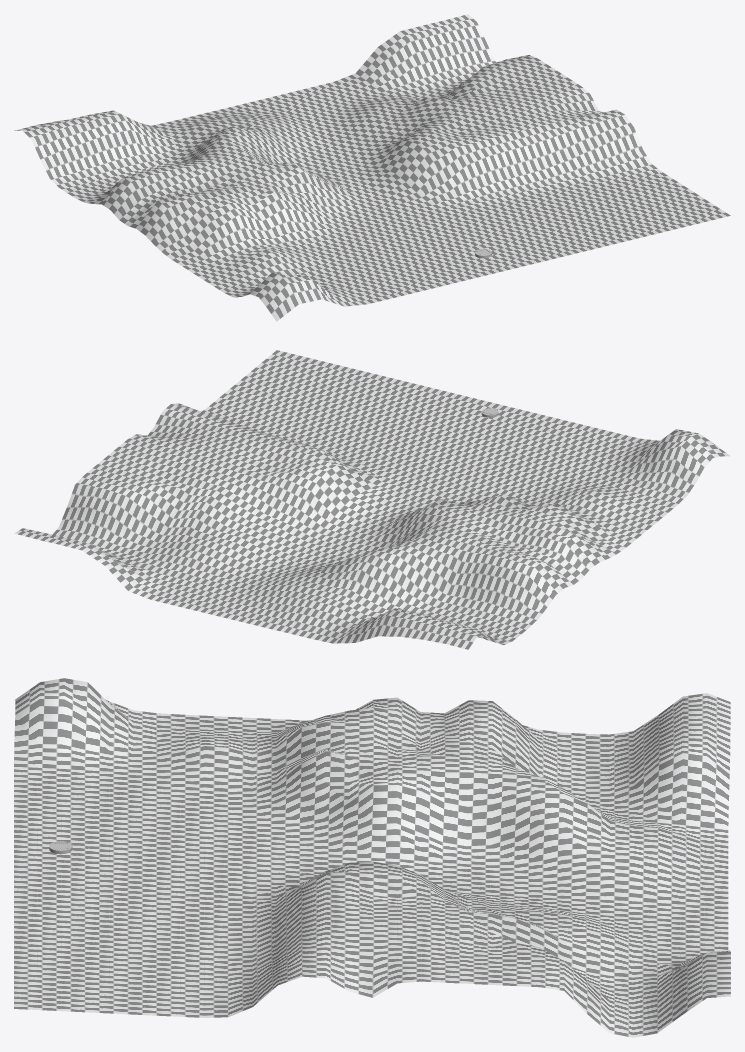
The model's file is GazerScene.FBX.
3 renders of one model, top to bottom at view 1: azimuth 30°, elevation 25°; view 2: azimuth 150°, elevation 25°; view 3: azimuth 270°, elevation 25°, orthographic. The views are drawn at different scales.
Visible parts, largest first — view 1: GazerScene; view 2: GazerScene; view 3: GazerScene.
Part boxes in pixels (box(x1,y1,x2,y2)): GazerScene: box(14, 14, 730, 321); GazerScene: box(14, 350, 730, 649); GazerScene: box(14, 678, 730, 1037).
Size of the model in its own units: 11824 by 11852 by 1413.
